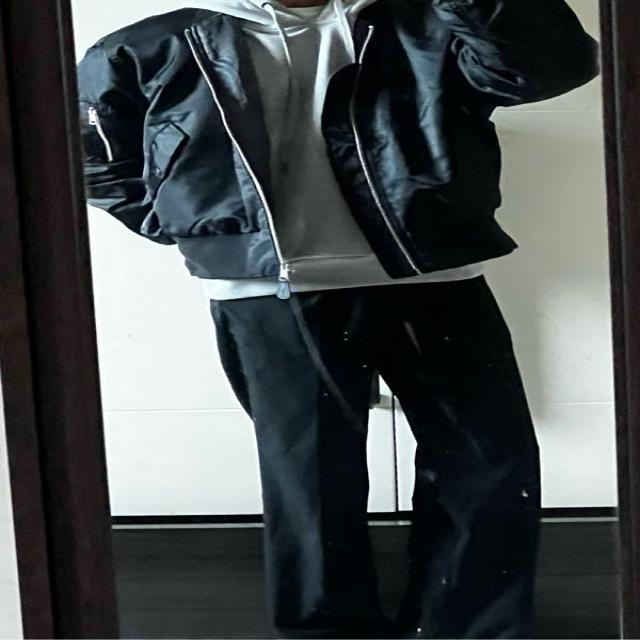jacket: (80, 1, 603, 291)
slacks: (212, 275, 550, 640)
